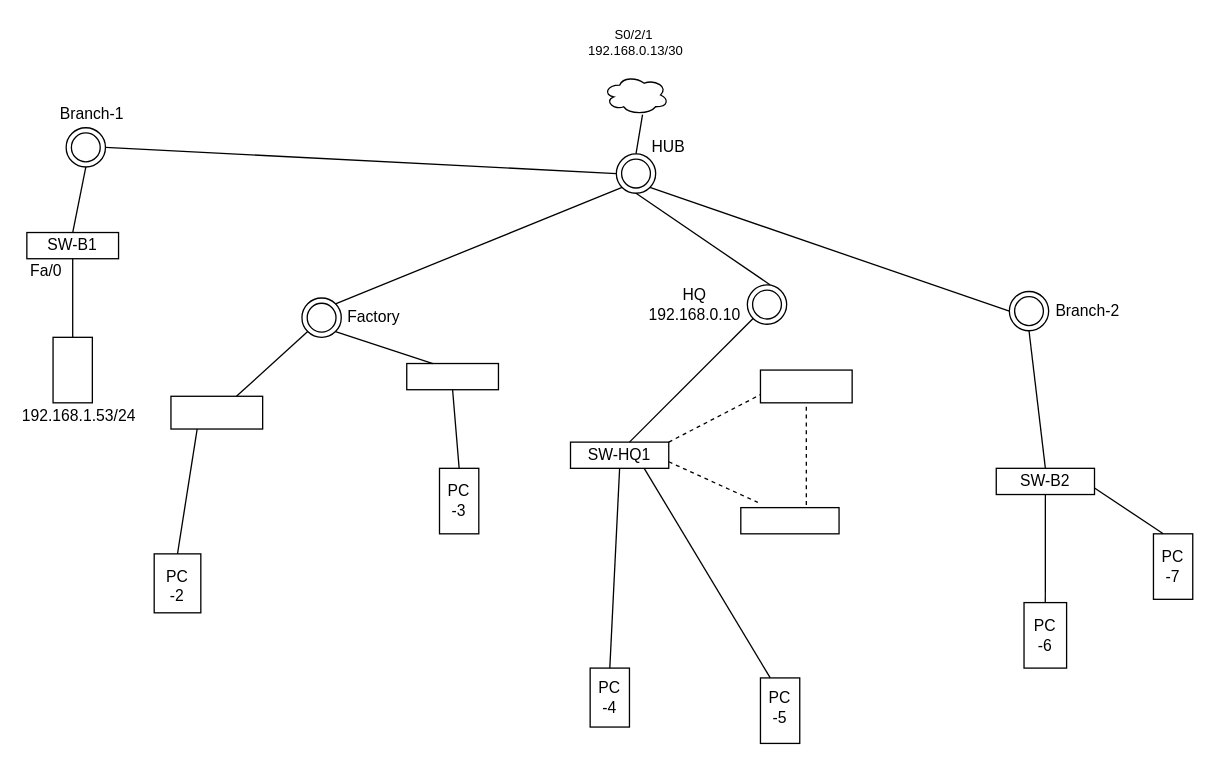
The diagram is 1216 pixels wide and 766 high, and some of its shapes have lost their labels. The centre of each missing label's shape, as x and y in pixels:
PC -1: the point at 72,369
SW-F1: the point at 216,412
SW-F2: the point at 451,376
SW-HQ2: the point at 789,520
SW-HQ3: the point at 805,386
